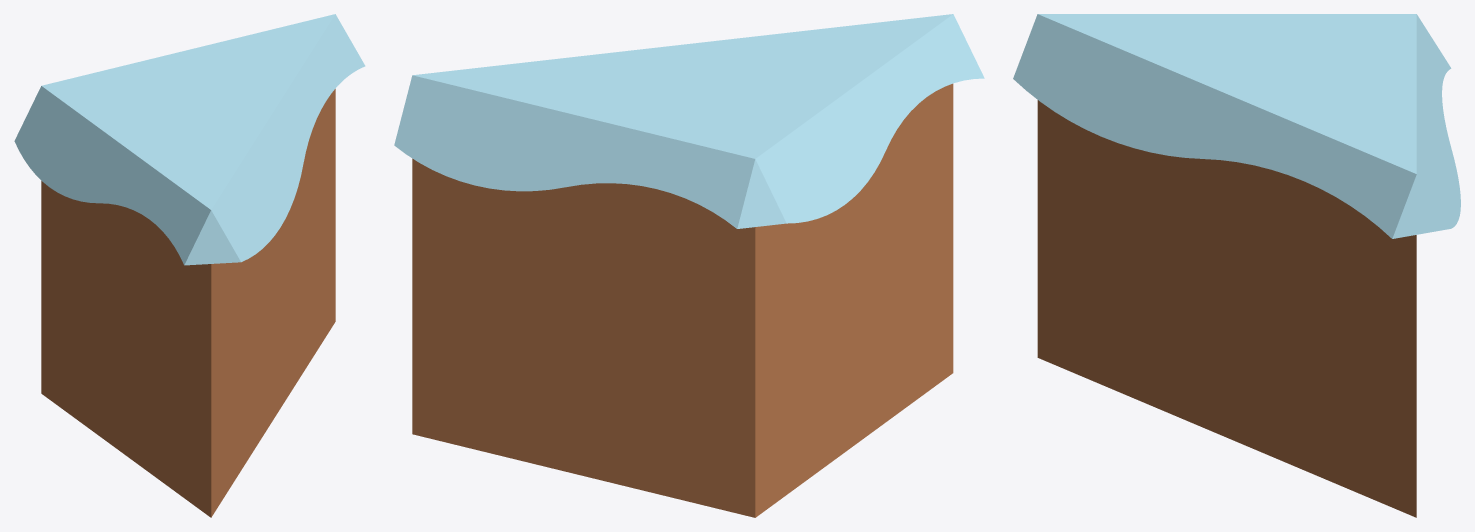
The model's file is blockSnowCornerLarge.dae.
3 views of the same model, side by side, from view 1: azimuth 30°, elevation 25°; view 2: azimuth 150°, elevation 25°; view 3: azimuth 270°, elevation 25° (orthographic). The views are drawn at different scales.
Parts seen in each view (by area): view 1: blockSnowCornerLarge; view 2: blockSnowCornerLarge; view 3: blockSnowCornerLarge.
Part boxes in pixels (<box>): blockSnowCornerLarge: <box>14,14,365,517</box>; blockSnowCornerLarge: <box>394,14,984,517</box>; blockSnowCornerLarge: <box>1013,14,1460,517</box>.
Size of the model in its own units: 1.18 by 1 by 1.18.
